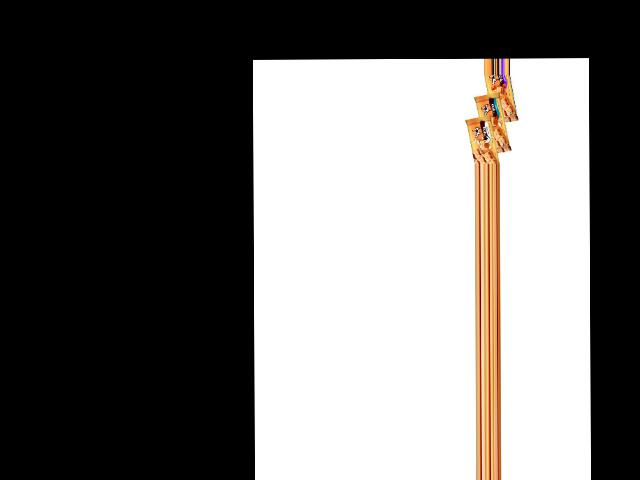chocolate: (483, 73, 515, 127)
